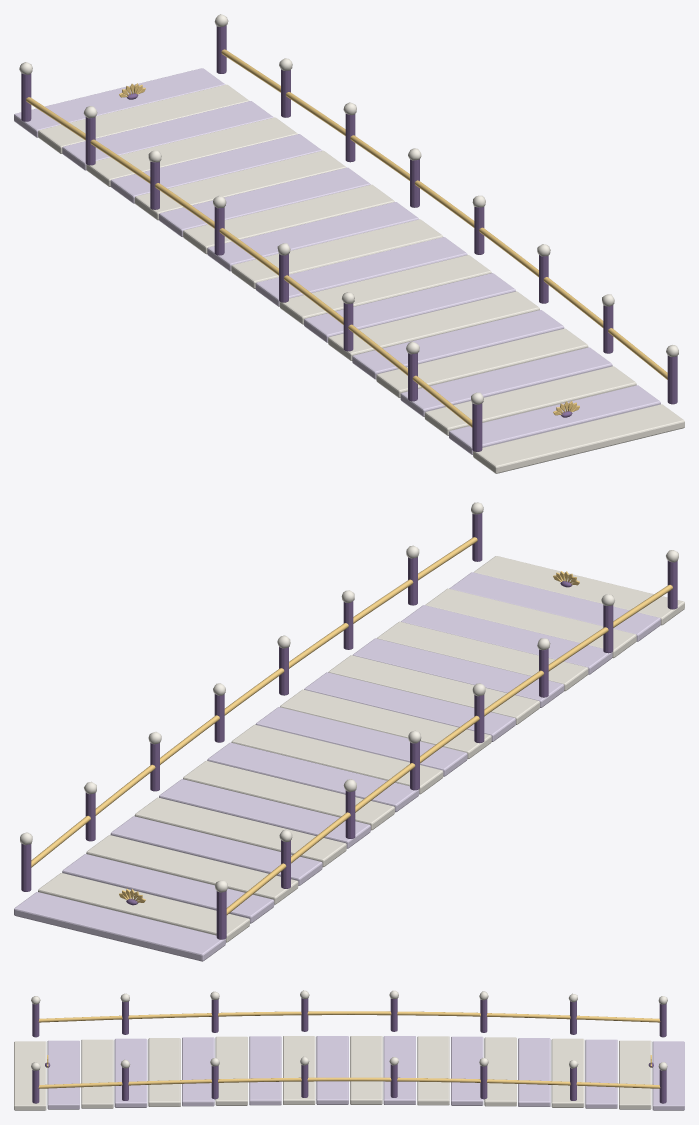
Rendered from lagoon_castle_bridge.glb.
3 views of the same model, one above another, from view 1: azimuth 30°, elevation 25°; view 2: azimuth 150°, elevation 25°; view 3: azimuth 270°, elevation 25° (orthographic). The views are drawn at different scales.
Visible parts, largest first — view 1: lagoon_castle_bridge.001; view 2: lagoon_castle_bridge.001; view 3: lagoon_castle_bridge.001.
Boxes of the visible parts, bbox=[...] form: lagoon_castle_bridge.001: bbox=[14, 14, 684, 473]; lagoon_castle_bridge.001: bbox=[14, 502, 684, 961]; lagoon_castle_bridge.001: bbox=[14, 990, 684, 1110].
Bounding box in the file's own units: 14.85 × 5.42 × 59.9.
